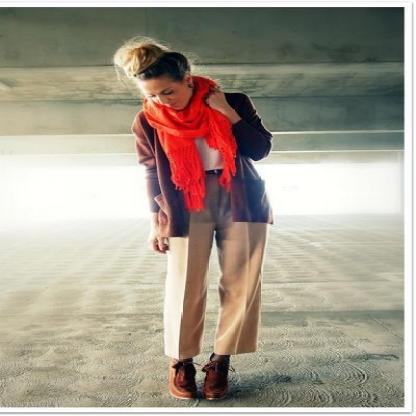jacket: (224, 92, 272, 158)
pants: (158, 200, 273, 360)
shirt: (138, 116, 268, 246)
shoe: (173, 354, 241, 403)
